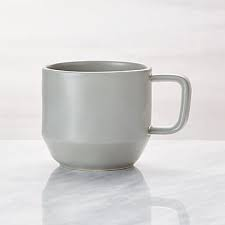cup: (35, 54, 195, 176)
